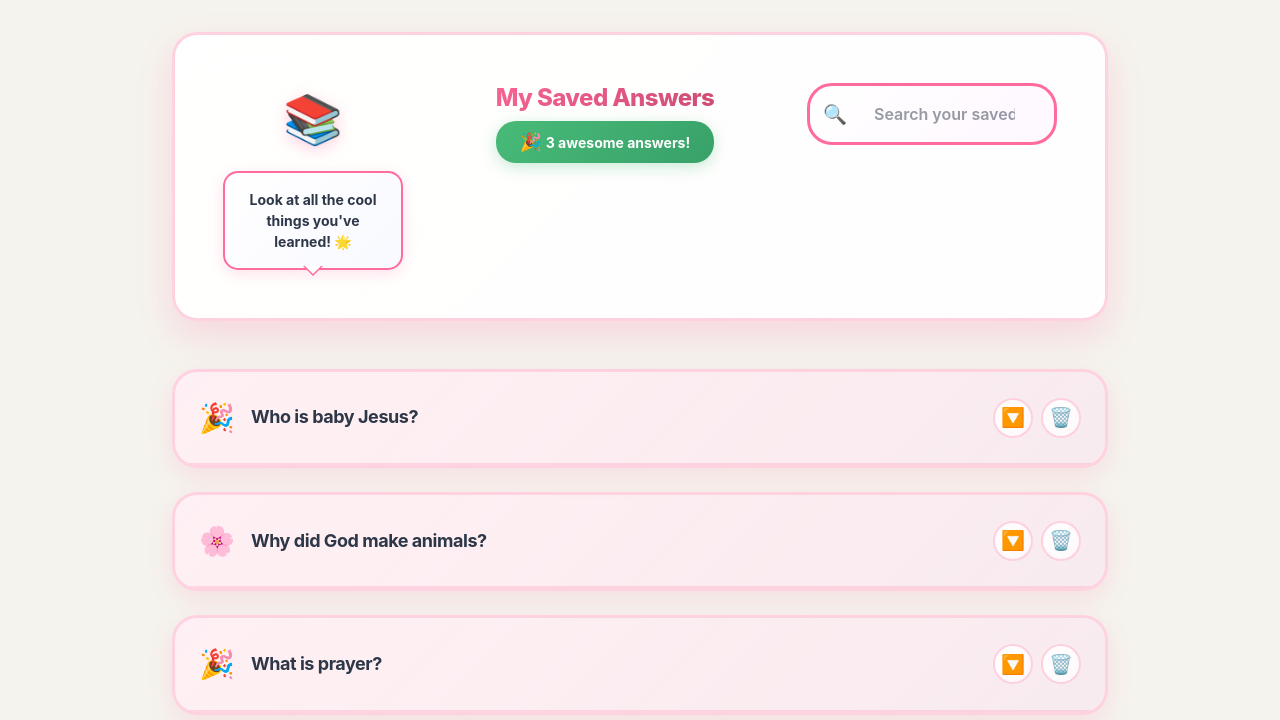
Test: KidsSavedAnswers › shows filtered empty state when search has no matches
Type "nonexistent question xyz" into the search field with class "kids-search-input" at (932, 114), box x1=807 y1=83 x2=1057 y2=145
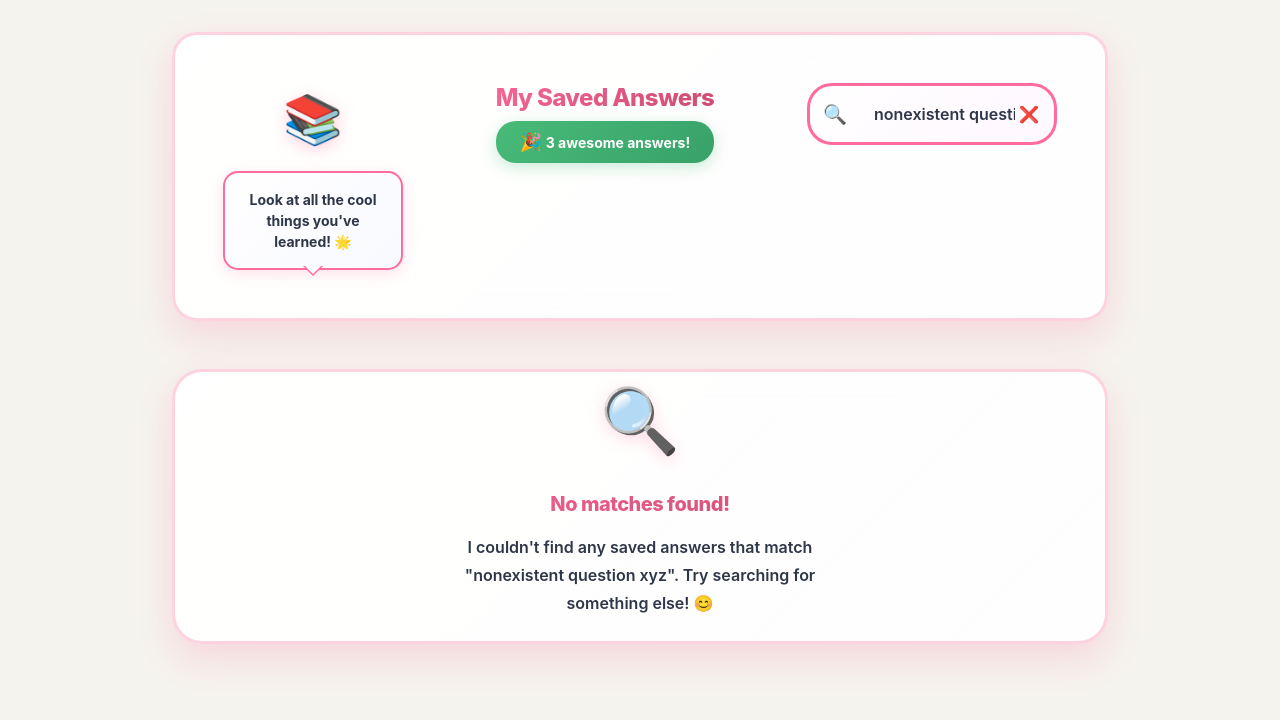
expect the element with class "kids-empty-state" is shown: met, box x1=172 y1=369 x2=1108 y2=644
expect the text "No matches found!" is shown: met, box x1=175 y1=492 x2=1105 y2=517
